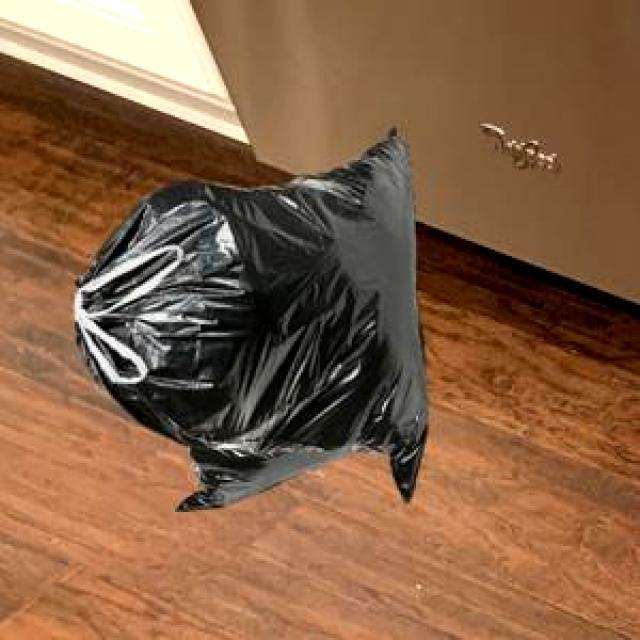Garbage_Bag: (74, 124, 424, 500), (174, 442, 353, 508)
